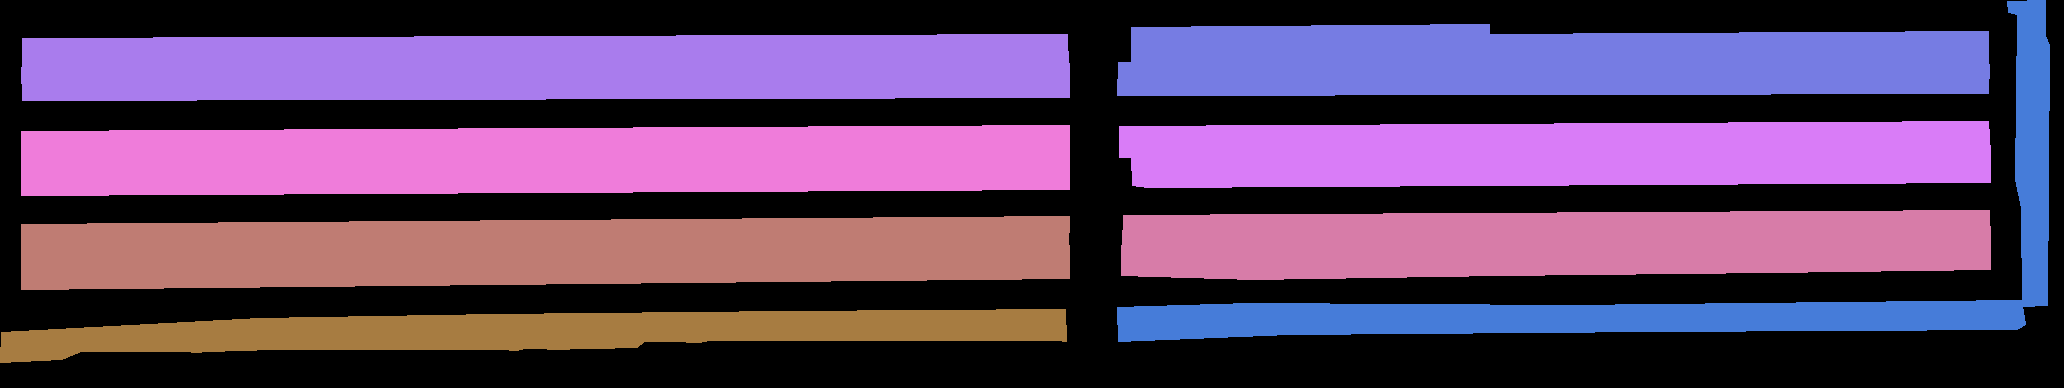parkingspot: (0, 309, 1066, 362), (21, 245, 1069, 289), (21, 216, 1069, 258), (21, 125, 1069, 164), (21, 155, 1069, 195), (21, 63, 1069, 100), (1118, 300, 2025, 341), (1131, 24, 1988, 66), (22, 34, 1068, 68), (1122, 239, 1990, 279), (1119, 121, 1990, 157), (1131, 151, 1990, 187), (1122, 210, 1990, 245), (1118, 62, 1989, 95), (2007, 0, 2050, 306)
